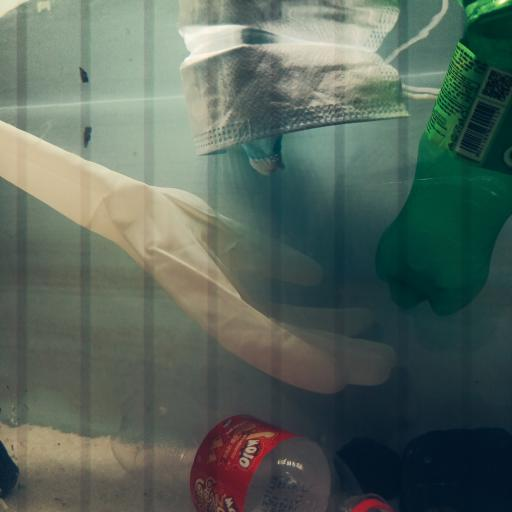glove: (0, 121, 399, 394)
mask: (180, 43, 452, 176)
plastic_bottle: (374, 0, 512, 318), (110, 387, 392, 512)
